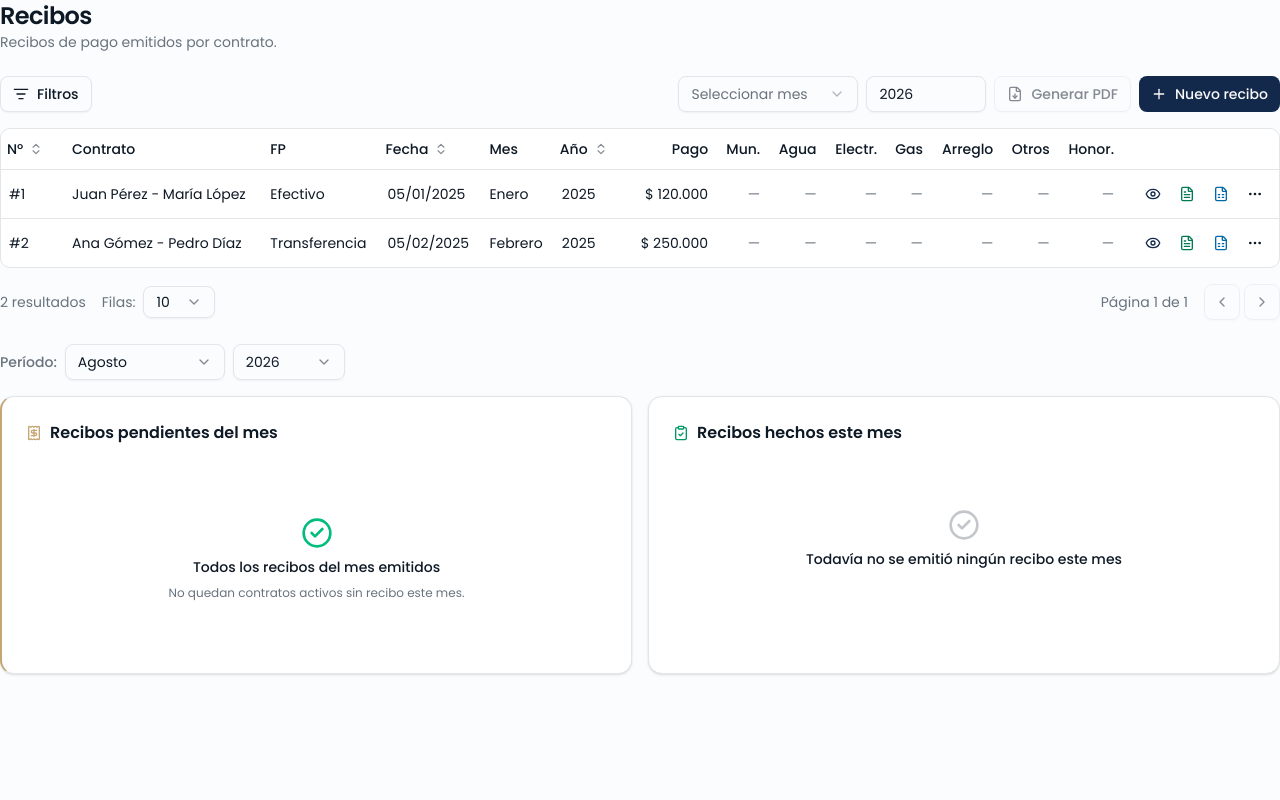
it: Acciones de PDF de recibos › ofrece enviar el recibo al inquilino desde el mismo menú
Expected: the text "Juan Pérez - María López" is shown, [64,169,262,218]
Click the button named "Recibo del recibo #1": (1187, 194) [1171,178,1203,210]
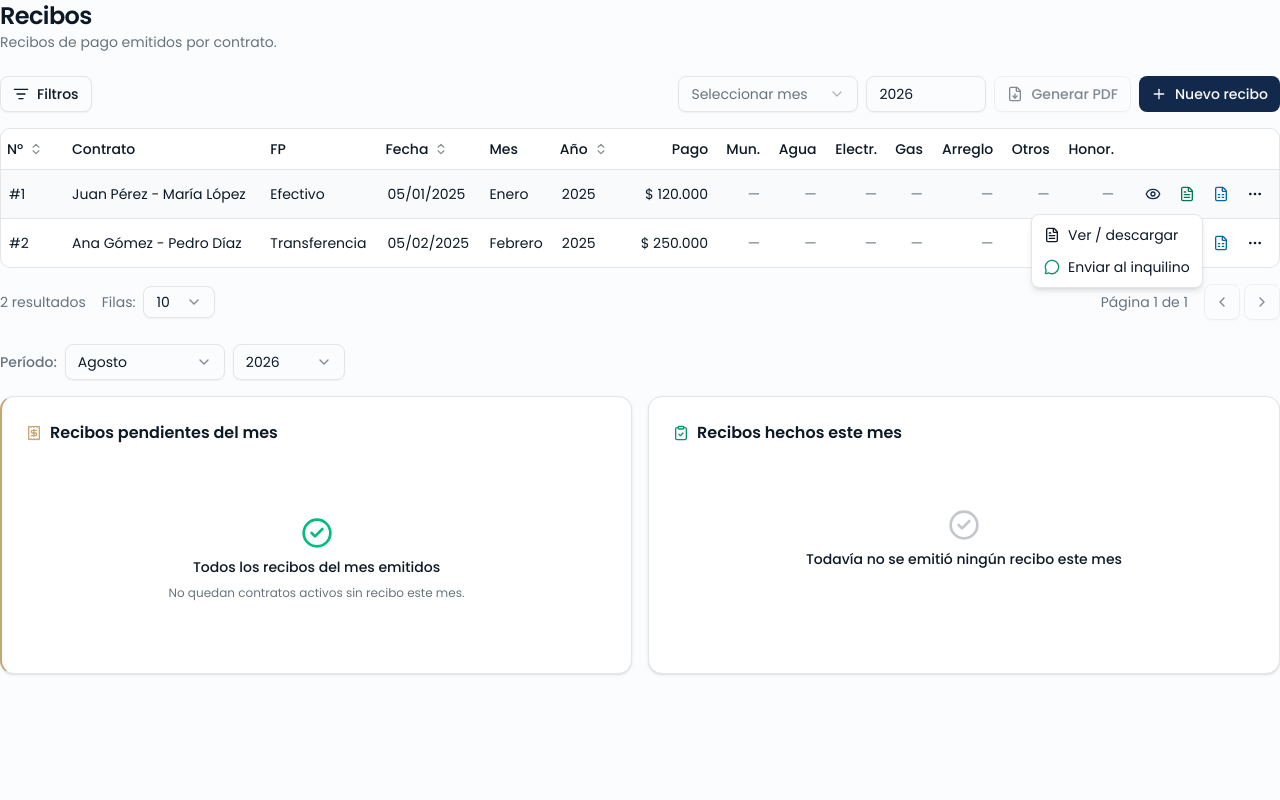
Click the menu item "Enviar al inquilino": (1117, 267) [1036,251,1198,283]
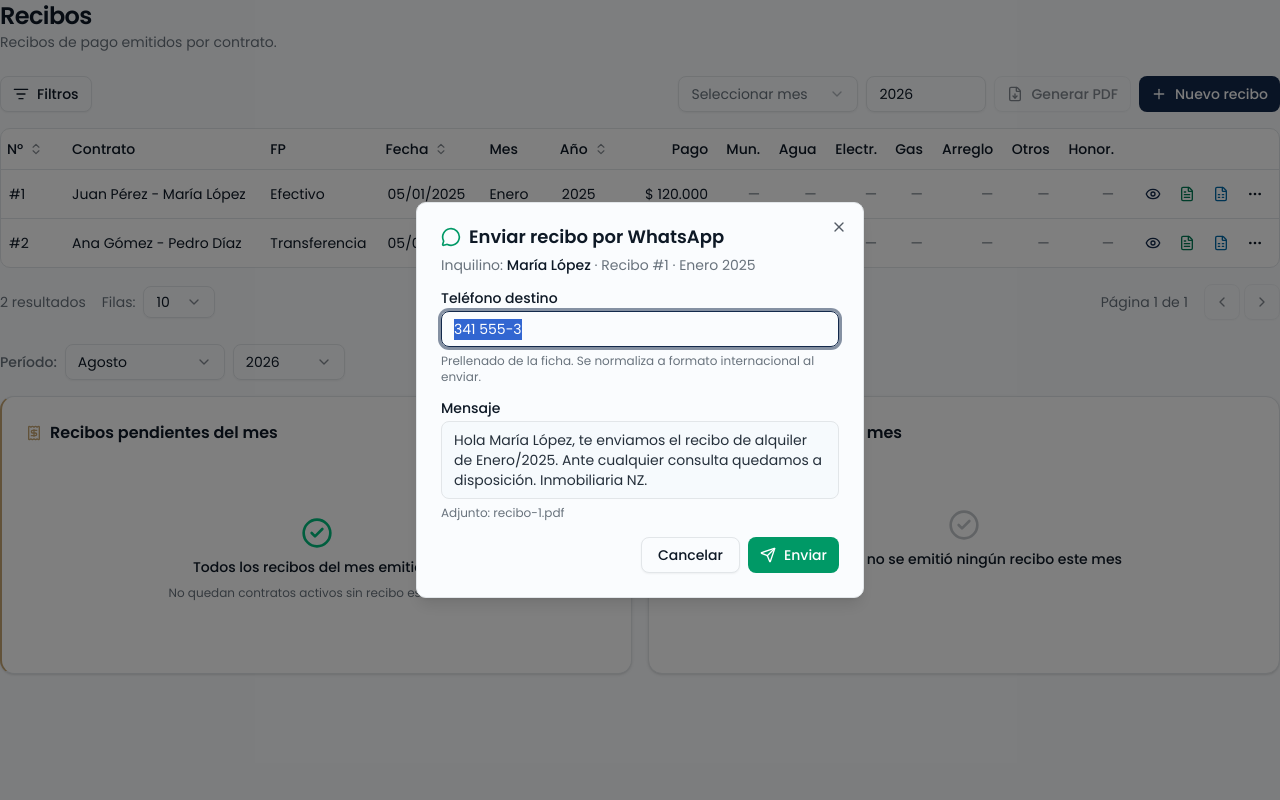
Result: the dialog is shown at [416,202,864,598]
